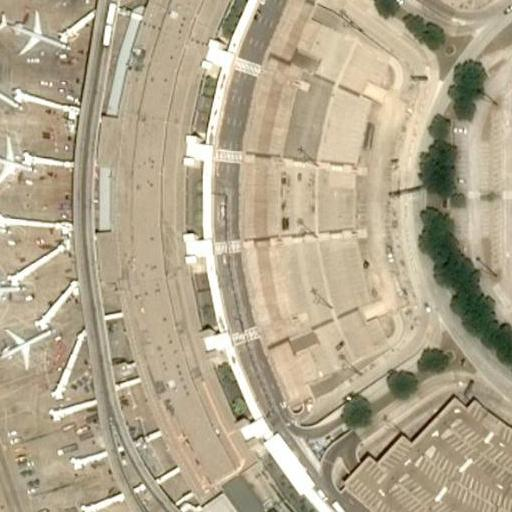Aircraft: (0, 8, 75, 59), (0, 323, 57, 374), (0, 138, 43, 186), (0, 58, 22, 115), (0, 265, 24, 312), (0, 196, 13, 247), (8, 0, 91, 1)
